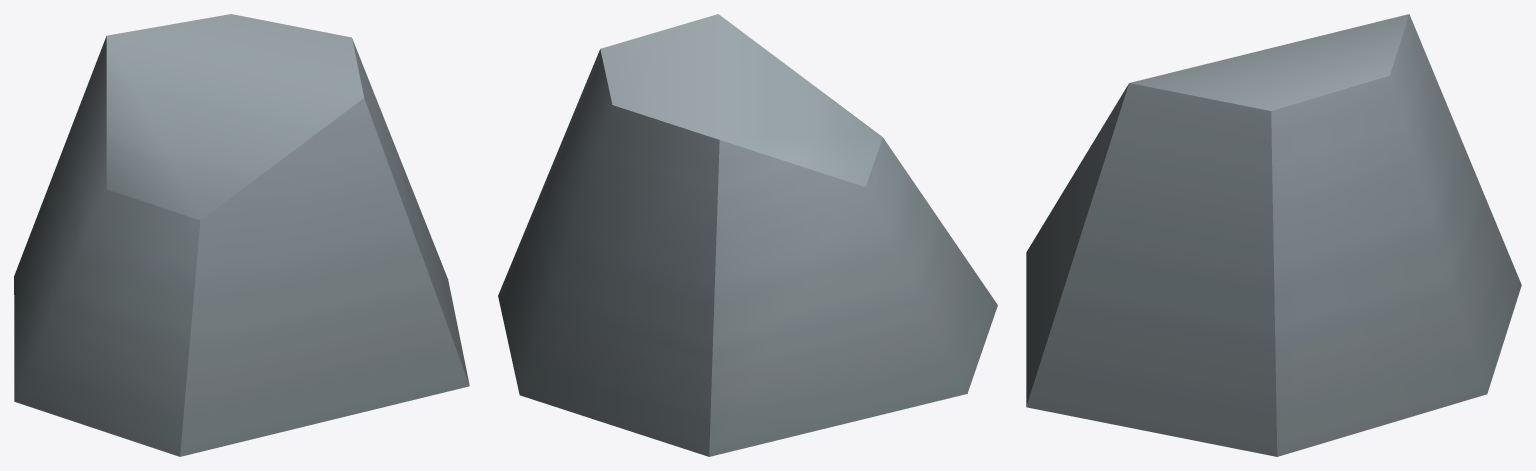
The model's file is rock_single_d.glb.
3 views of the same model, side by side, from view 1: azimuth 30°, elevation 25°; view 2: azimuth 150°, elevation 25°; view 3: azimuth 270°, elevation 25° (orthographic). The views are drawn at different scales.
Parts seen in each view (by area): view 1: rock_single_D; view 2: rock_single_D; view 3: rock_single_D.
Boxes of the visible parts, x1,y1,x2,y2 form: rock_single_D: (14, 14, 469, 456); rock_single_D: (498, 14, 997, 456); rock_single_D: (1026, 14, 1521, 456).
Size of the model in its own units: 0.2866 by 0.1629 by 0.2497.
Materials: 1 (1 with a texture image).
